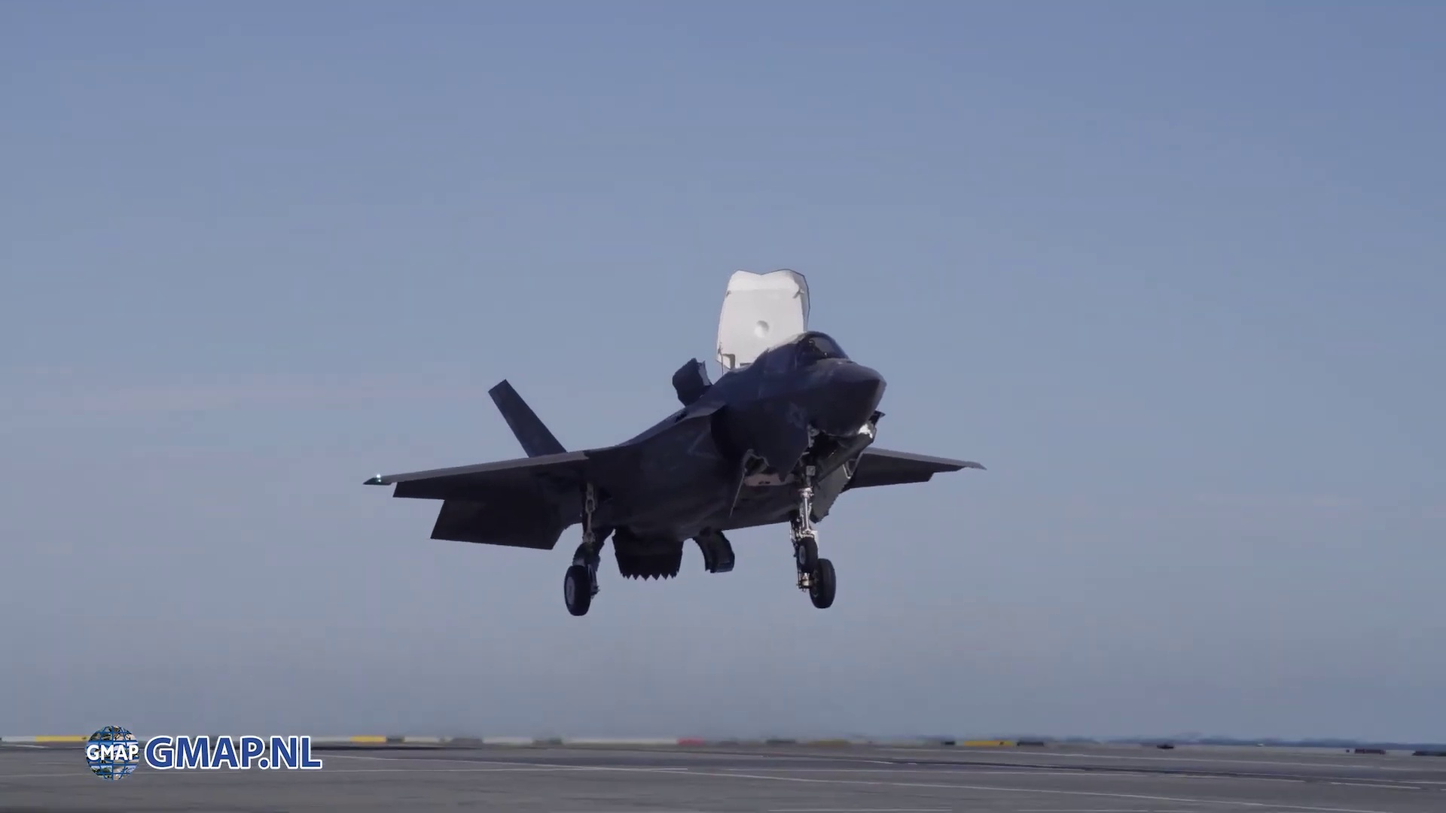F35: (354, 264, 997, 627)
